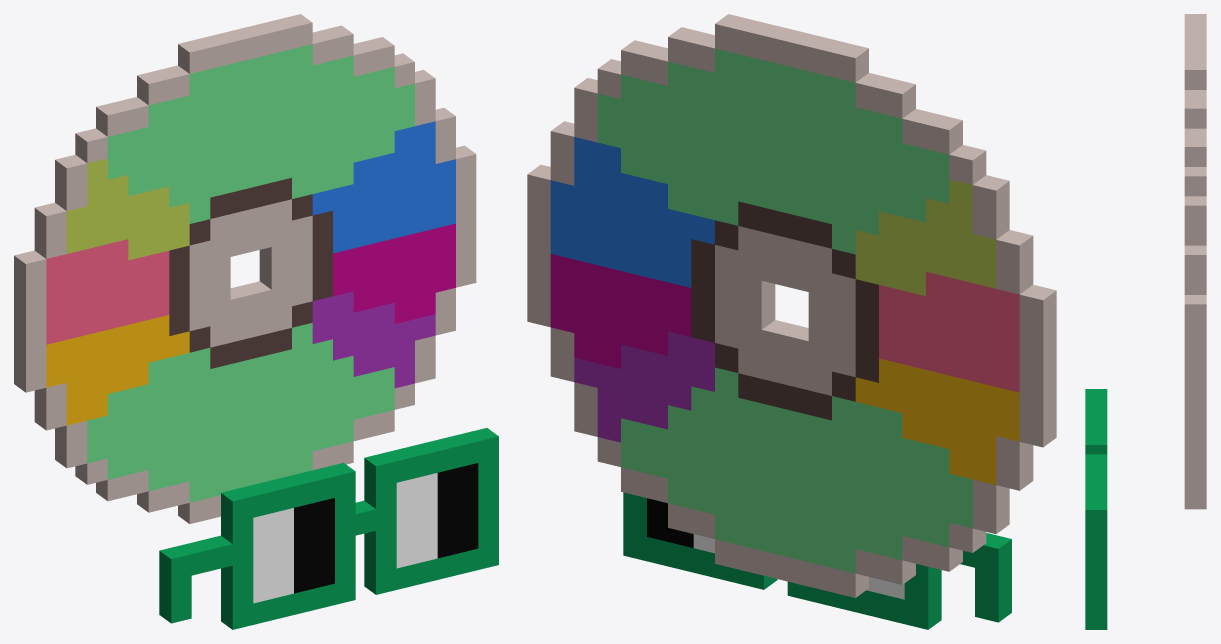
3 renders of one model, left to right at view 1: azimuth 30°, elevation 25°; view 2: azimuth 150°, elevation 25°; view 3: azimuth 270°, elevation 25°, orthographic. The views are drawn at different scales.
Visible parts, largest first — view 1: base, glasses, layer-2; view 2: base, glasses, layer-2; view 3: base, glasses.
Boxes of the visible parts, bbox=[...] form: base: bbox=[14, 14, 476, 523]; glasses: bbox=[159, 428, 498, 629]; layer-2: bbox=[253, 463, 478, 603]; base: bbox=[527, 14, 1056, 597]; glasses: bbox=[623, 492, 1011, 629]; layer-2: bbox=[647, 498, 904, 599]; base: bbox=[1184, 14, 1206, 509]; glasses: bbox=[1085, 389, 1107, 629].
Bounding box in the file's own units: 22 × 25 × 5.5.
Materials: 13 (13 with a texture image).
